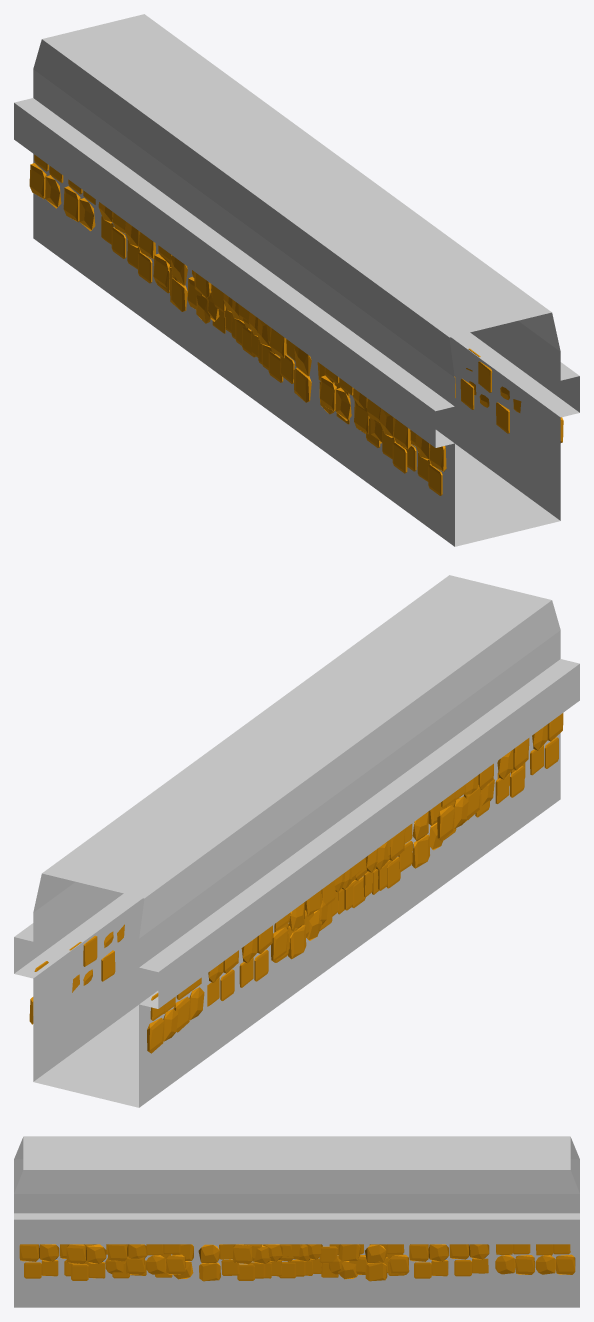
File: Wall.fbx
3 views of the same model, one above another, from view 1: azimuth 30°, elevation 25°; view 2: azimuth 150°, elevation 25°; view 3: azimuth 270°, elevation 25° (orthographic). The views are drawn at different scales.
Parts seen in each view (by area): view 1: Wall part; view 2: Wall part; view 3: Wall part.
Boxes of the visible parts, x1,y1,x2,y2 form: Wall part: [14, 14, 579, 546]; Wall part: [14, 575, 579, 1107]; Wall part: [14, 1136, 579, 1307].
Size of the model in its own units: 146 by 197 by 738.
